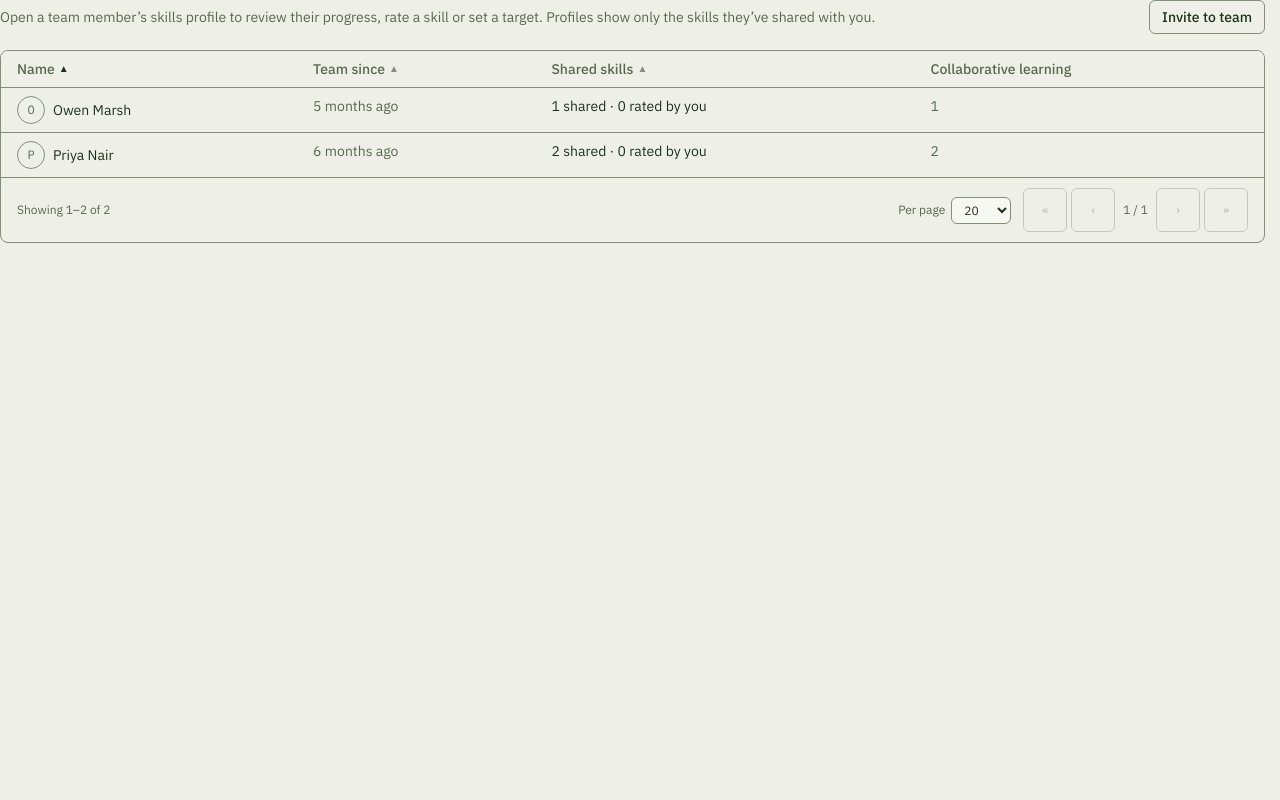
Scenario: ManagerTeamPanel › invites several connections and an email address in one go
The width and height of the screenshot is (1280, 800).
Click the button "Invite to team" at point(1207, 17), box [1149,0,1265,34]
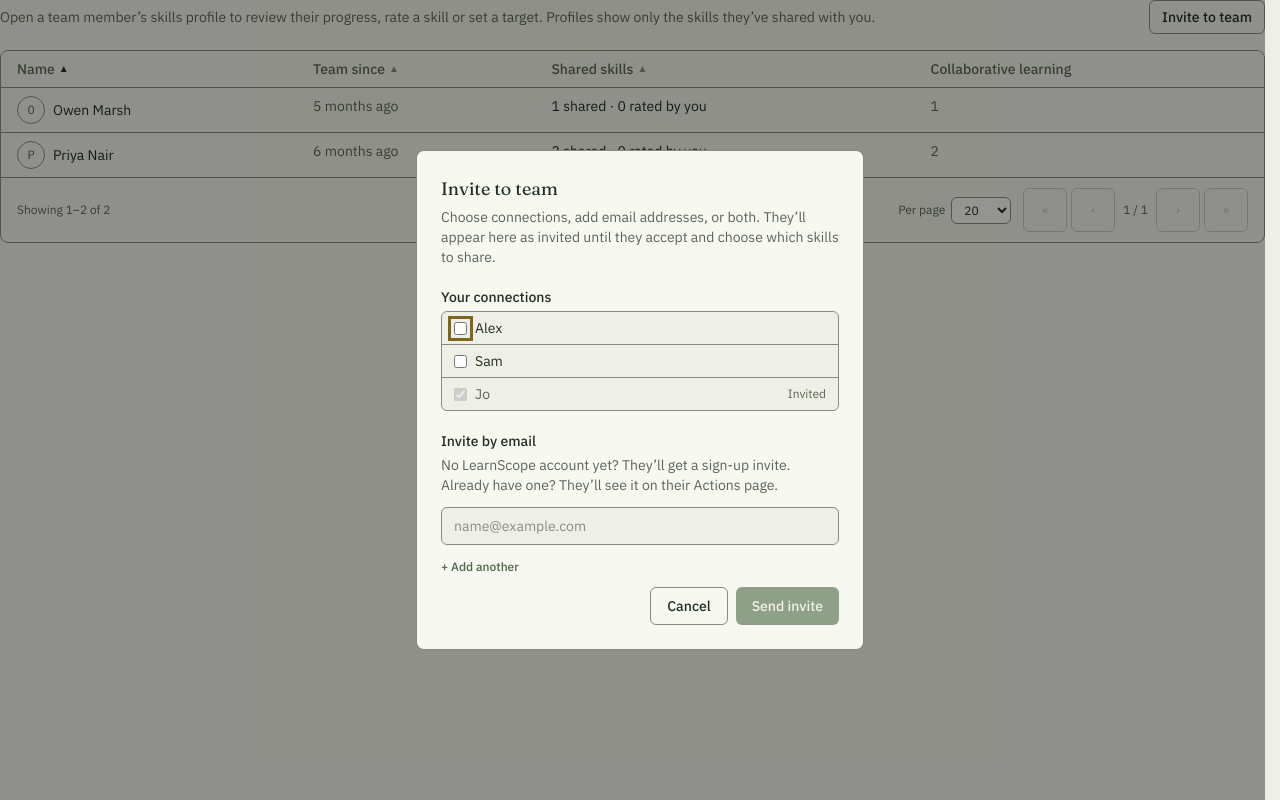
Result: the checkbox labelled "Jo Invited" is disabled at [454,388,467,400]
Click the checkbox labelled "Alex" at point(460, 328), box [454,322,467,334]
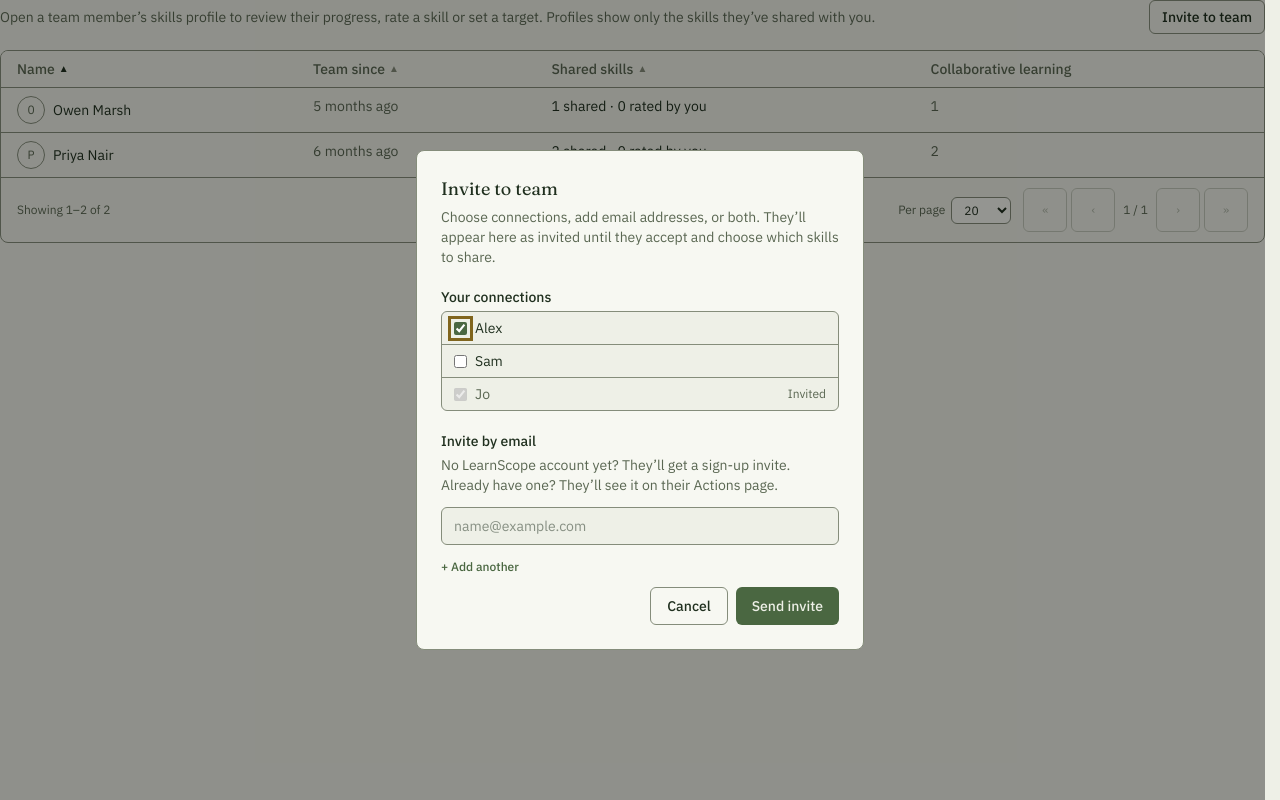
Click the checkbox labelled "Sam" at point(460, 361), box [454,354,467,368]
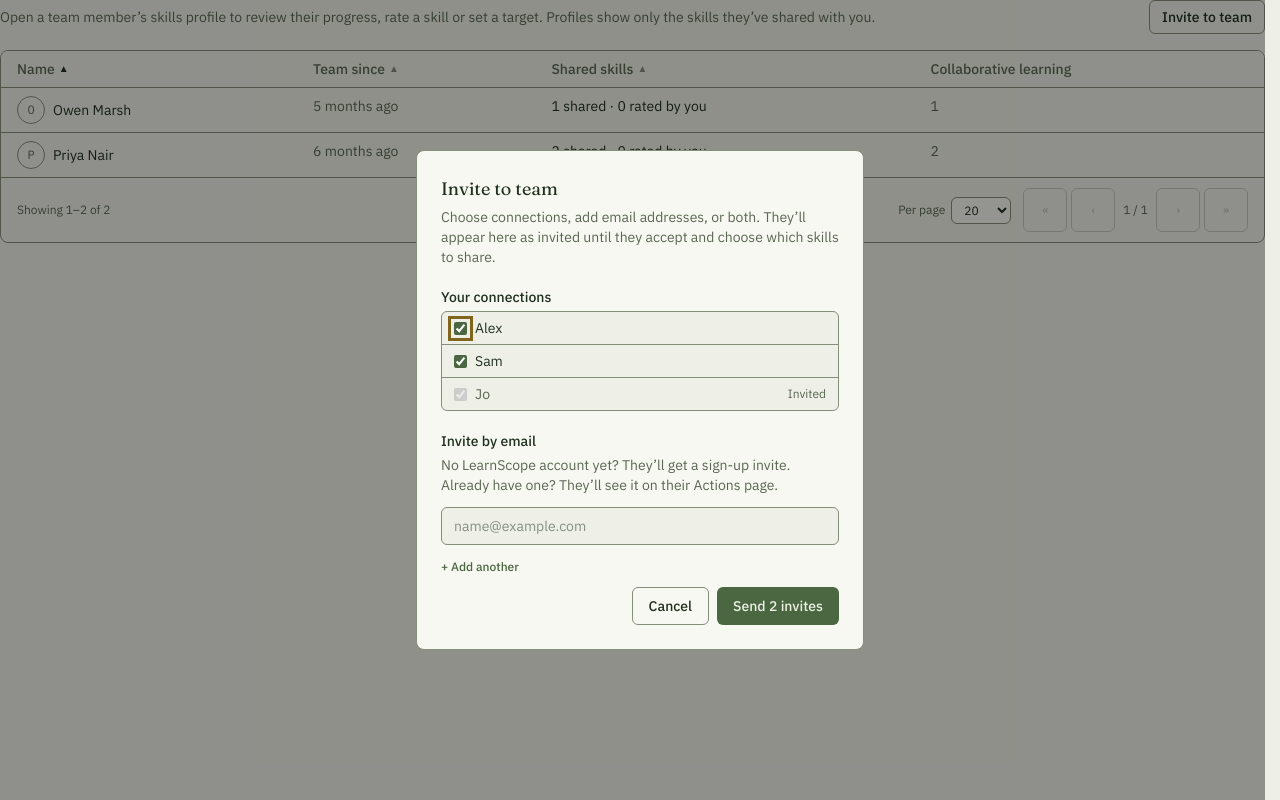
Type "c@example.com" into the field named "Email 1" at point(640, 526), box [441,507,839,545]
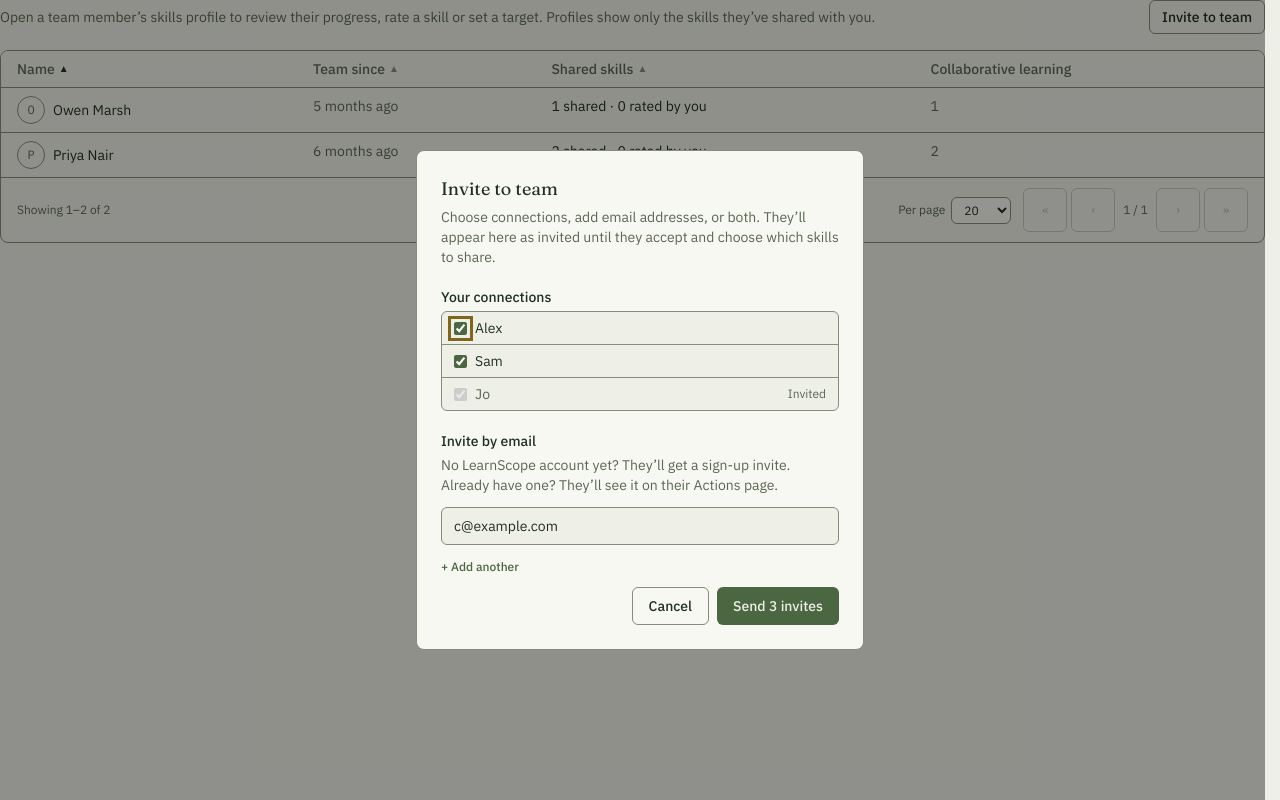
Click the button "Send 3 invites" at point(778, 606), box [717,587,839,625]
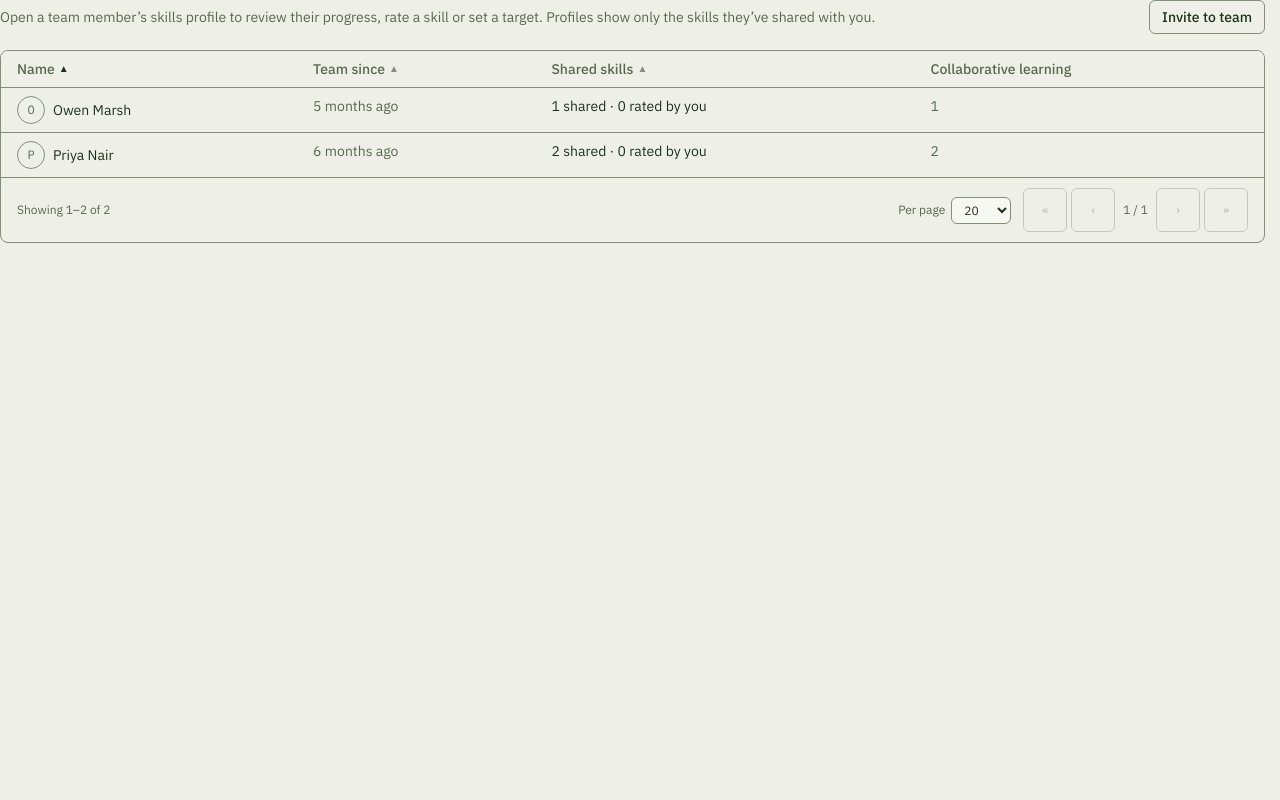
Result: the dialog is gone
